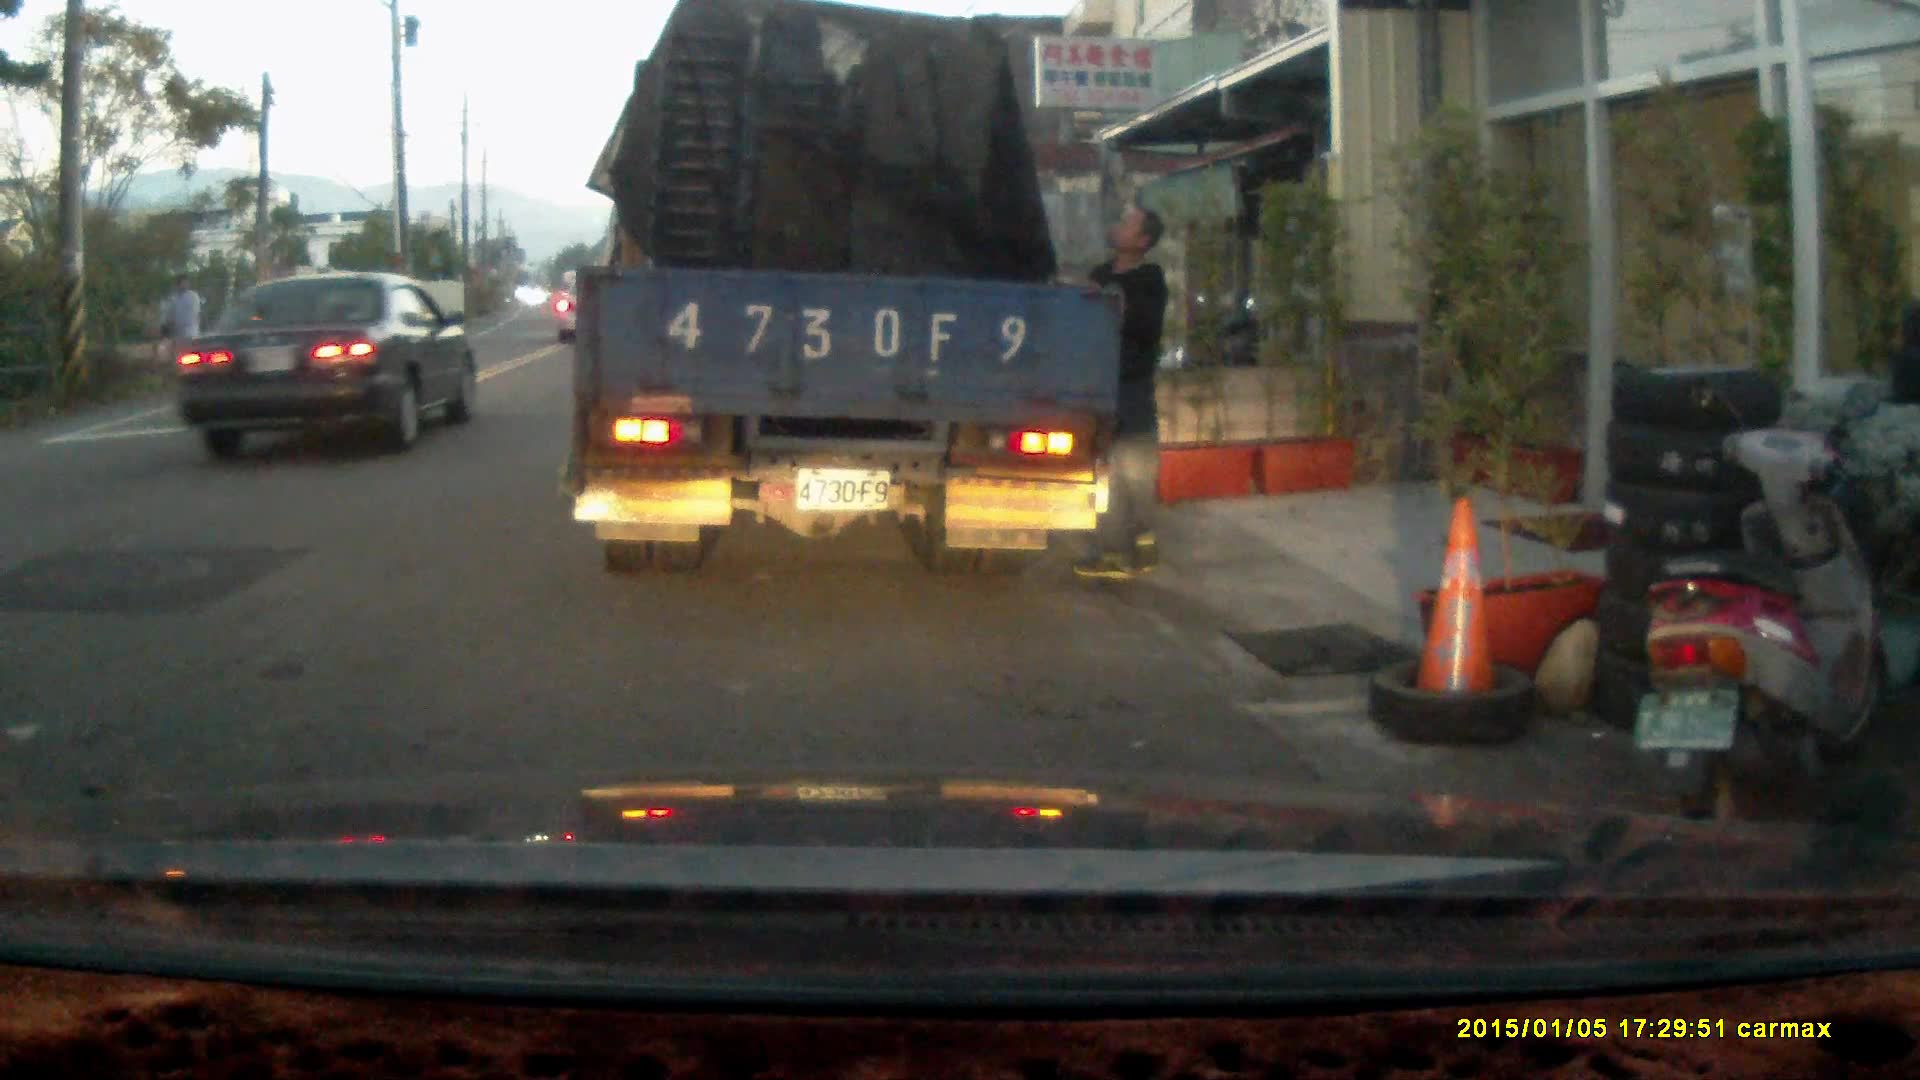pedestrian: (1057, 201, 1170, 581), (160, 271, 206, 398)
vehicle: (572, 23, 1111, 572), (168, 270, 477, 463)
